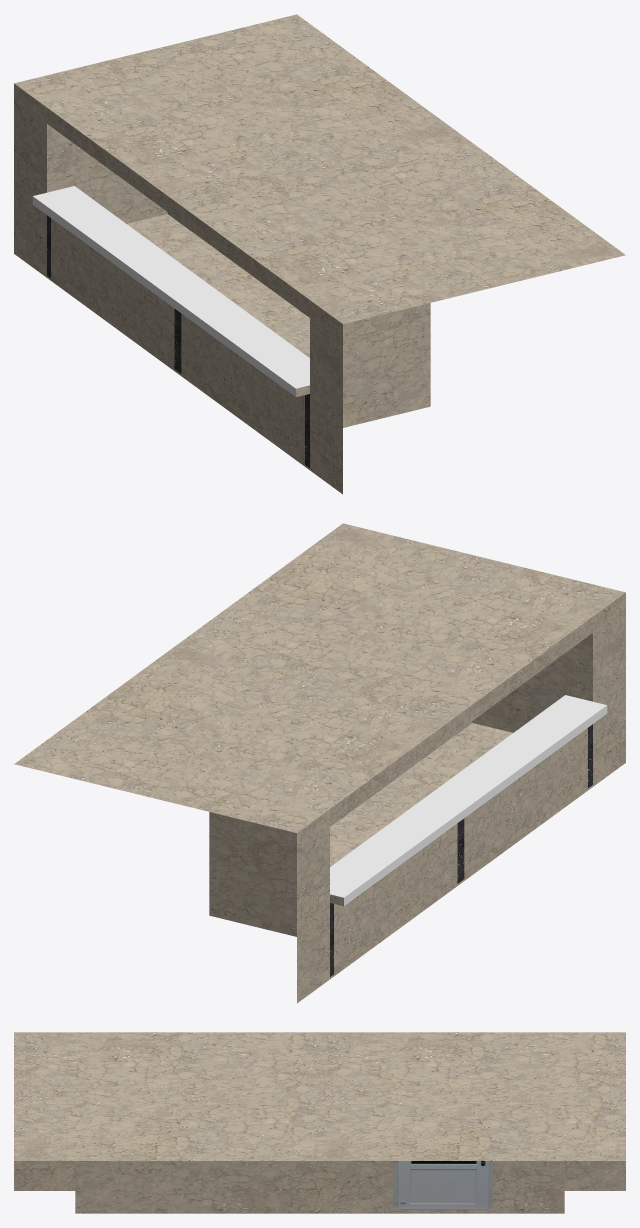
Rendered from балкон.fbx.
3 views of the same model, one above another, from view 1: azimuth 30°, elevation 25°; view 2: azimuth 150°, elevation 25°; view 3: azimuth 270°, elevation 25° (orthographic). The views are drawn at different scales.
Parts seen in each view (by area): view 1: балкон; view 2: балкон; view 3: балкон.
Boxes of the visible parts, x1,y1,x2,y2 form: балкон: (14,14,625,494); балкон: (14,523,625,1003); балкон: (14,1032,625,1213).
Size of the model in its own units: 730 by 400 by 1400.
